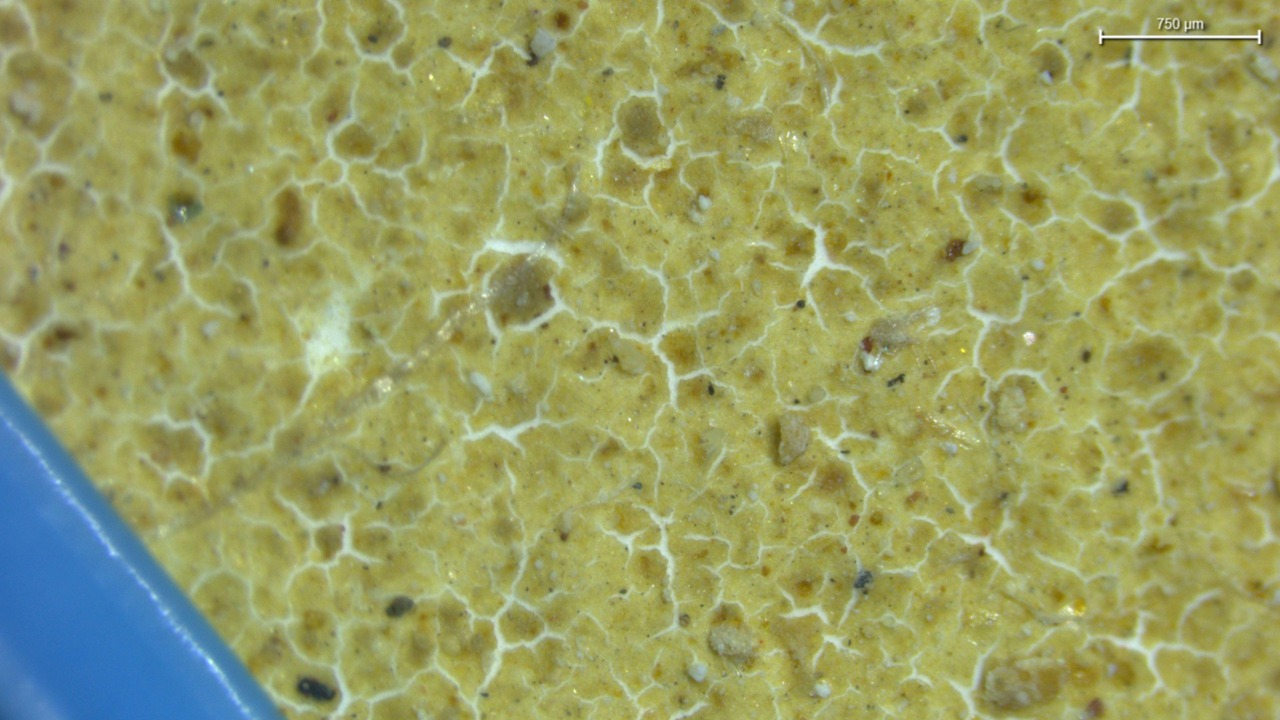microplastic_fragment: (708, 624, 754, 662), (778, 411, 810, 464), (530, 30, 555, 54)
